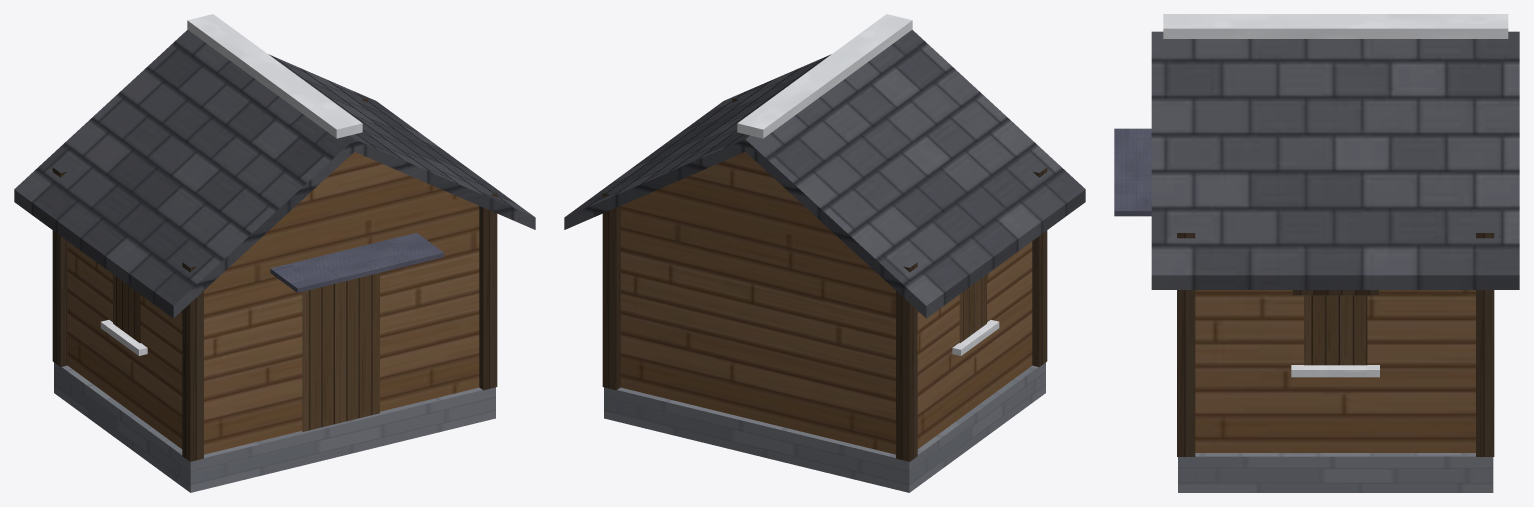
Rendered from ae_snow_wood_small_booth_lod1.glb.
3 views of the same model, side by side, from view 1: azimuth 30°, elevation 25°; view 2: azimuth 150°, elevation 25°; view 3: azimuth 270°, elevation 25° (orthographic). The views are drawn at different scales.
Visible parts, largest first — view 1: ae_snow_wood_small_booth_lod1; view 2: ae_snow_wood_small_booth_lod1; view 3: ae_snow_wood_small_booth_lod1.
Part boxes in pixels (x1,y1,x2,y2): ae_snow_wood_small_booth_lod1: (14, 14, 535, 492); ae_snow_wood_small_booth_lod1: (564, 14, 1085, 492); ae_snow_wood_small_booth_lod1: (1114, 14, 1519, 492).
Bounding box in the file's own units: 4.2 × 3.7 × 3.53.
Materials: 1 (1 with a texture image).
